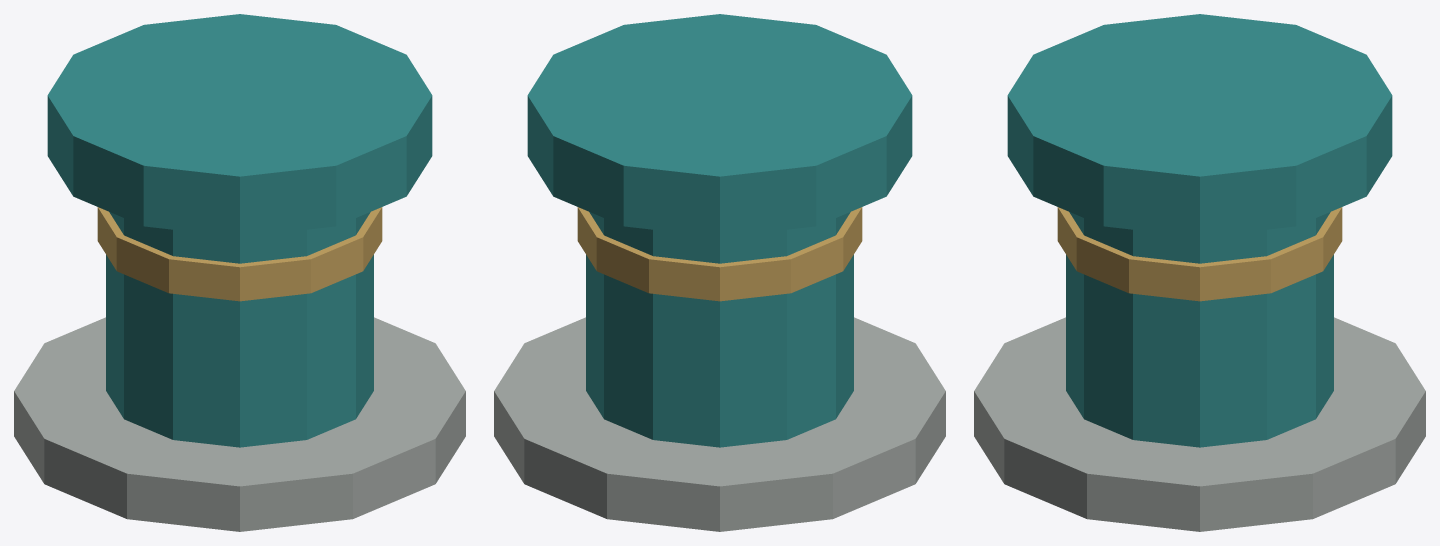
The model's file is harbour_bollard.glb.
3 views of the same model, side by side, from view 1: azimuth 30°, elevation 25°; view 2: azimuth 150°, elevation 25°; view 3: azimuth 270°, elevation 25° (orthographic).
Visible parts, largest first — view 1: Bollard crown, Bollard plinth, Bollard, Brass collar; view 2: Bollard crown, Bollard plinth, Bollard, Brass collar; view 3: Bollard crown, Bollard plinth, Bollard, Brass collar.
Part boxes in pixels (bbox=[...]): Bollard crown: bbox=[47, 14, 432, 237]; Bollard plinth: bbox=[14, 317, 465, 531]; Bollard: bbox=[106, 212, 373, 447]; Brass collar: bbox=[97, 207, 382, 301]; Bollard crown: bbox=[527, 14, 912, 237]; Bollard plinth: bbox=[494, 317, 945, 531]; Bollard: bbox=[586, 212, 853, 447]; Brass collar: bbox=[577, 207, 862, 301]; Bollard crown: bbox=[1007, 14, 1392, 237]; Bollard plinth: bbox=[974, 317, 1425, 531]; Bollard: bbox=[1066, 212, 1333, 447]; Brass collar: bbox=[1057, 207, 1342, 301].
Bounding box in the file's own units: 0.54 × 0.45 × 0.54.
